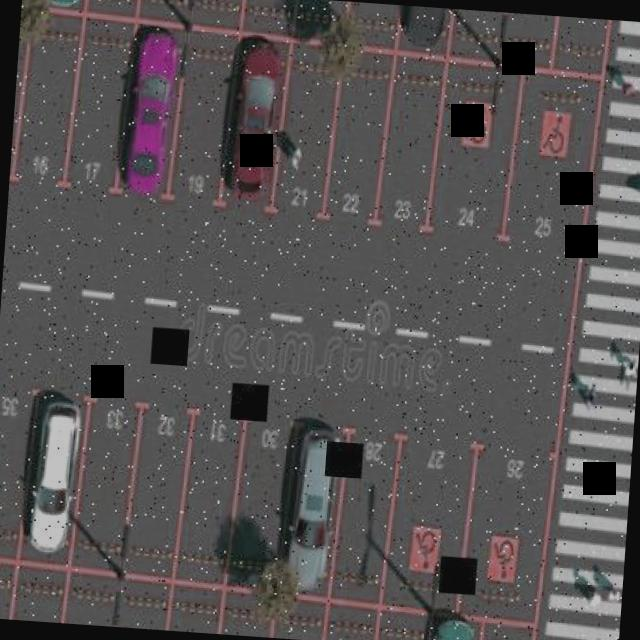car: (281, 412, 350, 602), (218, 38, 290, 220), (14, 384, 89, 557), (118, 14, 186, 204), (399, 5, 452, 60), (428, 609, 481, 640), (32, 0, 84, 15)
free: (504, 65, 597, 262), (430, 68, 520, 250), (462, 436, 552, 618), (390, 443, 475, 609), (68, 396, 146, 560), (374, 48, 444, 228), (168, 21, 238, 200), (122, 400, 194, 566), (65, 16, 135, 186), (224, 412, 298, 570), (173, 402, 246, 558), (272, 58, 343, 218), (336, 430, 406, 586), (15, 11, 81, 173), (325, 64, 392, 214), (0, 385, 31, 541), (499, 12, 558, 72), (554, 16, 608, 79), (218, 587, 280, 637), (60, 576, 120, 626), (289, 0, 348, 44), (116, 583, 170, 630), (167, 588, 220, 634), (15, 578, 68, 622), (345, 1, 399, 44), (452, 8, 500, 56), (322, 599, 375, 640), (243, 0, 297, 39), (271, 602, 325, 640), (193, 0, 245, 26), (139, 0, 191, 22), (376, 618, 423, 640), (85, 0, 138, 19), (0, 557, 14, 619), (480, 623, 530, 640)
